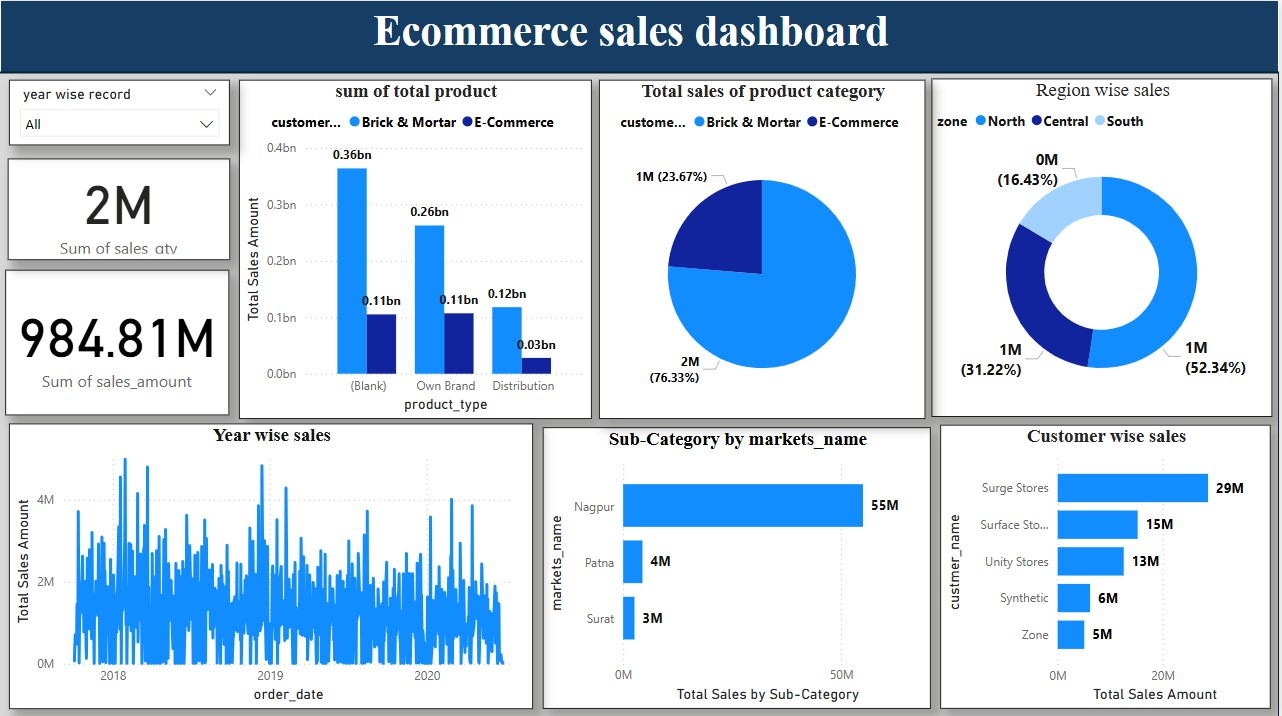

What the dashboard file says about the page in this screenshot:
{"tool":"powerbi","page":{"name":"Page 2","canvas":[1280,720],"ordinal":0},"visuals":[{"type":"card","fields":{"Values":["Sum(sales transactions.sales_amount)"]},"box":[6.9,269,223.7,145.5],"z":0},{"type":"card","fields":{"Values":["Sum(sales transactions.sales_qty)"]},"box":[8.2,157.8,222.3,101.5],"z":1000},{"type":"clusteredColumnChart","title":"sum of total product","fields":{"Category":["sales products.product_type"],"Y":["basic measures.Total Sales Amount"],"Series":["sales customers.customer_type"]},"box":[240.1,78.2,352.7,338.9],"z":2000},{"type":"clusteredBarChart","title":" Sub-Category by markets_name","fields":{"Category":["sales markets.markets_name"],"Y":["basic measures.Total Sales by Sub-Category"]},"box":[543.4,426.8,388.3,281.3],"z":3000},{"type":"donutChart","title":"Region wise sales","fields":{"Y":["basic measures.total sales qty"],"Category":["sales markets.zone"]},"box":[932,78,341,338],"z":4000},{"type":"pieChart","title":"Total sales of product category","fields":{"Category":["sales customers.customer_type"],"Y":["basic measures.total sales qty"]},"box":[599.7,78.2,326.6,338.9],"z":5000},{"type":"clusteredBarChart","title":"Customer wise sales","fields":{"Category":["sales customers.custmer_name"],"Y":["basic measures.Total Sales Amount"]},"box":[941.3,424,330.7,284],"z":6000},{"type":"slicer","fields":{"Values":["sales date.year"]},"box":[9.6,78.2,220.9,65.9],"z":6001},{"type":"textbox","box":[0,0,1263.8,67.2],"z":6002},{"type":"lineChart","title":"Year wise sales","fields":{"Category":["sales transactions.order_date"],"Y":["basic measures.Total Sales Amount"]},"box":[9.6,422.6,524.2,285.4],"z":6003}]}

Visuals, with their boxes in screenshot pixels (x1, y1, x2, y2), scaled from the page's 1280x720 canvas onto the 1282x716 screenshot:
card - Sum(sales transactions.sales_amount): (7, 268, 231, 412)
card - Sum(sales transactions.sales_qty): (8, 157, 231, 258)
"sum of total product" clusteredColumnChart: (240, 78, 594, 415)
" Sub-Category by markets_name" clusteredBarChart: (544, 424, 933, 704)
"Region wise sales" donutChart: (933, 78, 1275, 414)
"Total sales of product category" pieChart: (601, 78, 928, 415)
"Customer wise sales" clusteredBarChart: (943, 422, 1274, 704)
slicer - sales date.year: (10, 78, 231, 143)
textbox: (0, 0, 1266, 67)
"Year wise sales" lineChart: (10, 420, 535, 704)
